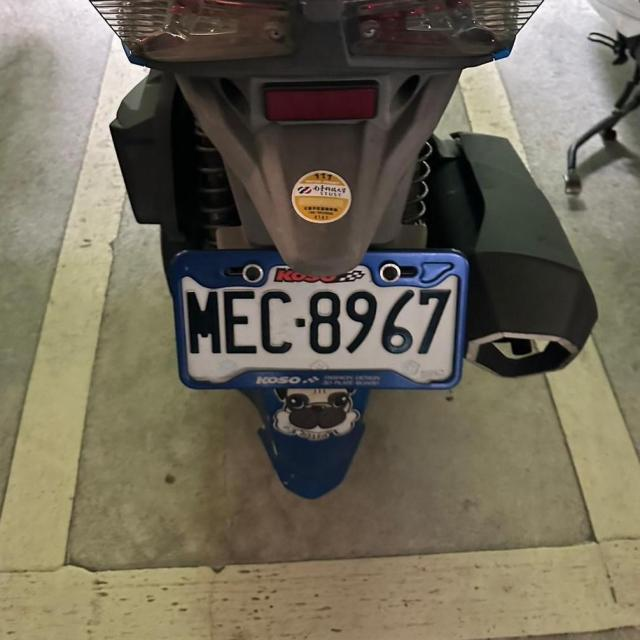W: (161, 237, 475, 397)
